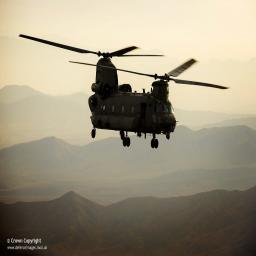helicopter: (21, 35, 232, 148)
